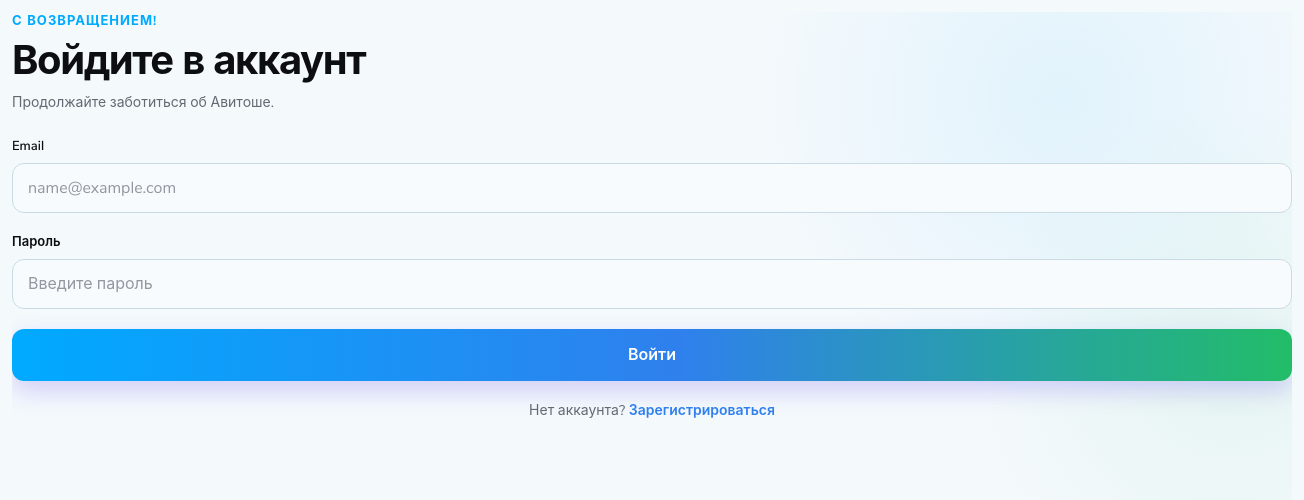
Test: LoginForm › shows invalid credentials returned by the backend
Type "user@example.com" into the field labelled "Email" at x=652, y=188, box [12,163,1292,213]
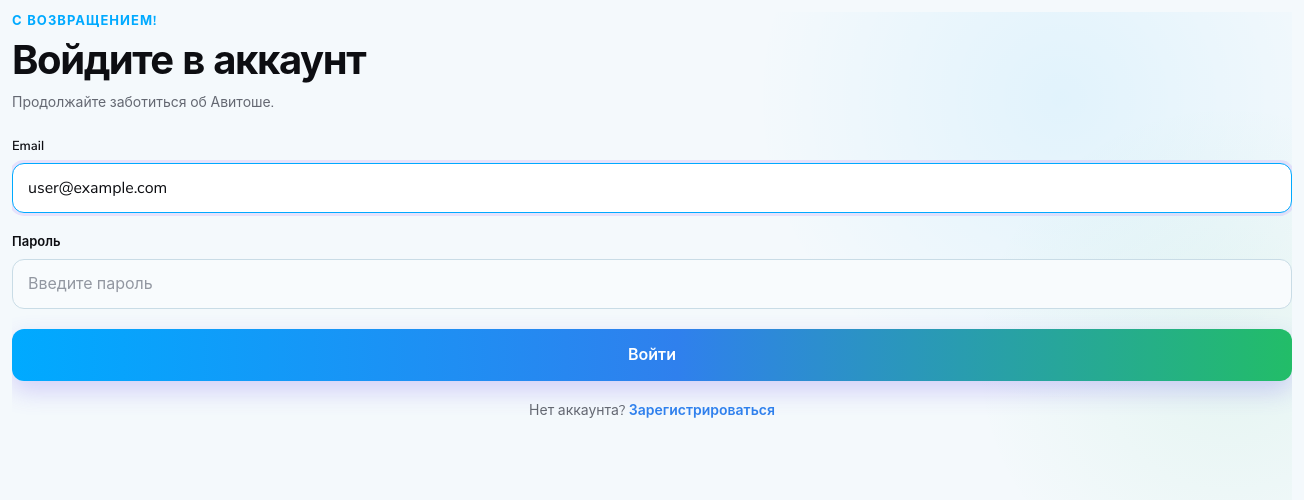
Type "password123" into the password field labelled "Пароль" at x=652, y=284, box [12,259,1292,309]
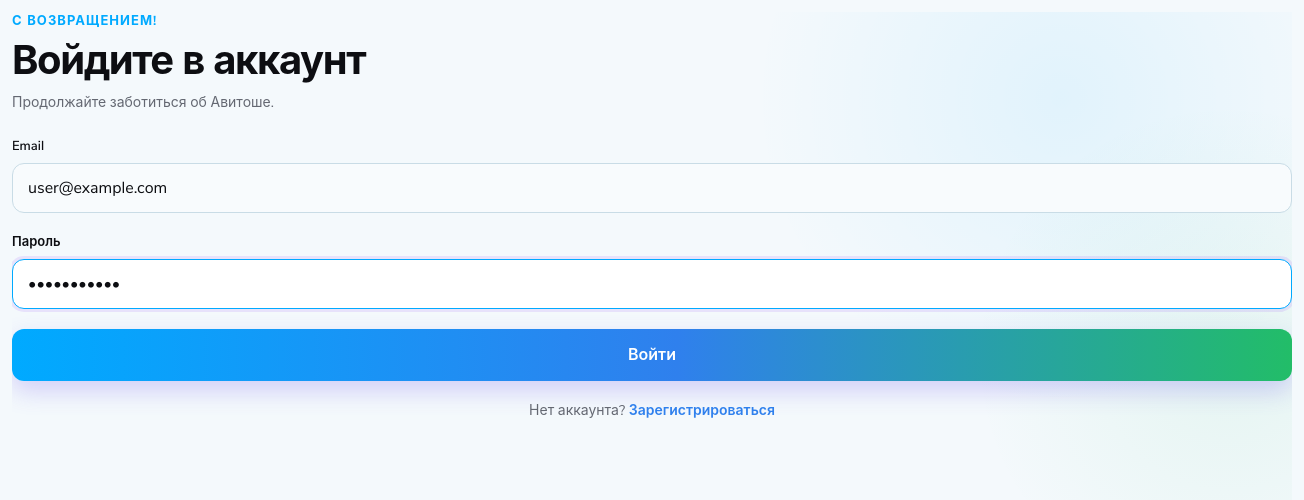
Click the button "Войти" at x=652, y=355, box [12,329,1292,381]
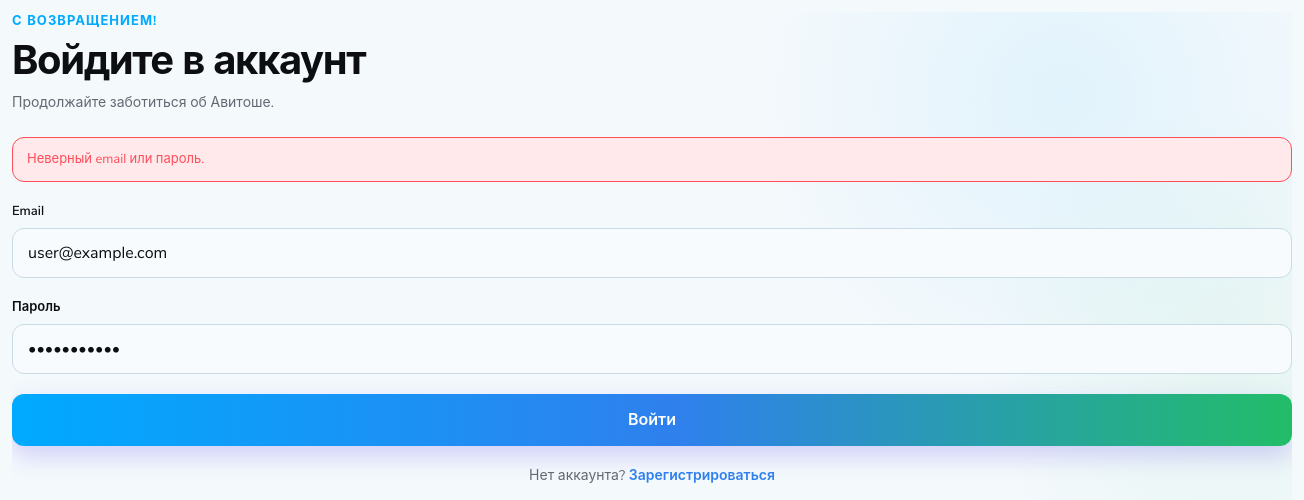
Expected: the text "Неверный email или пароль." is shown, [12,137,1292,182]
